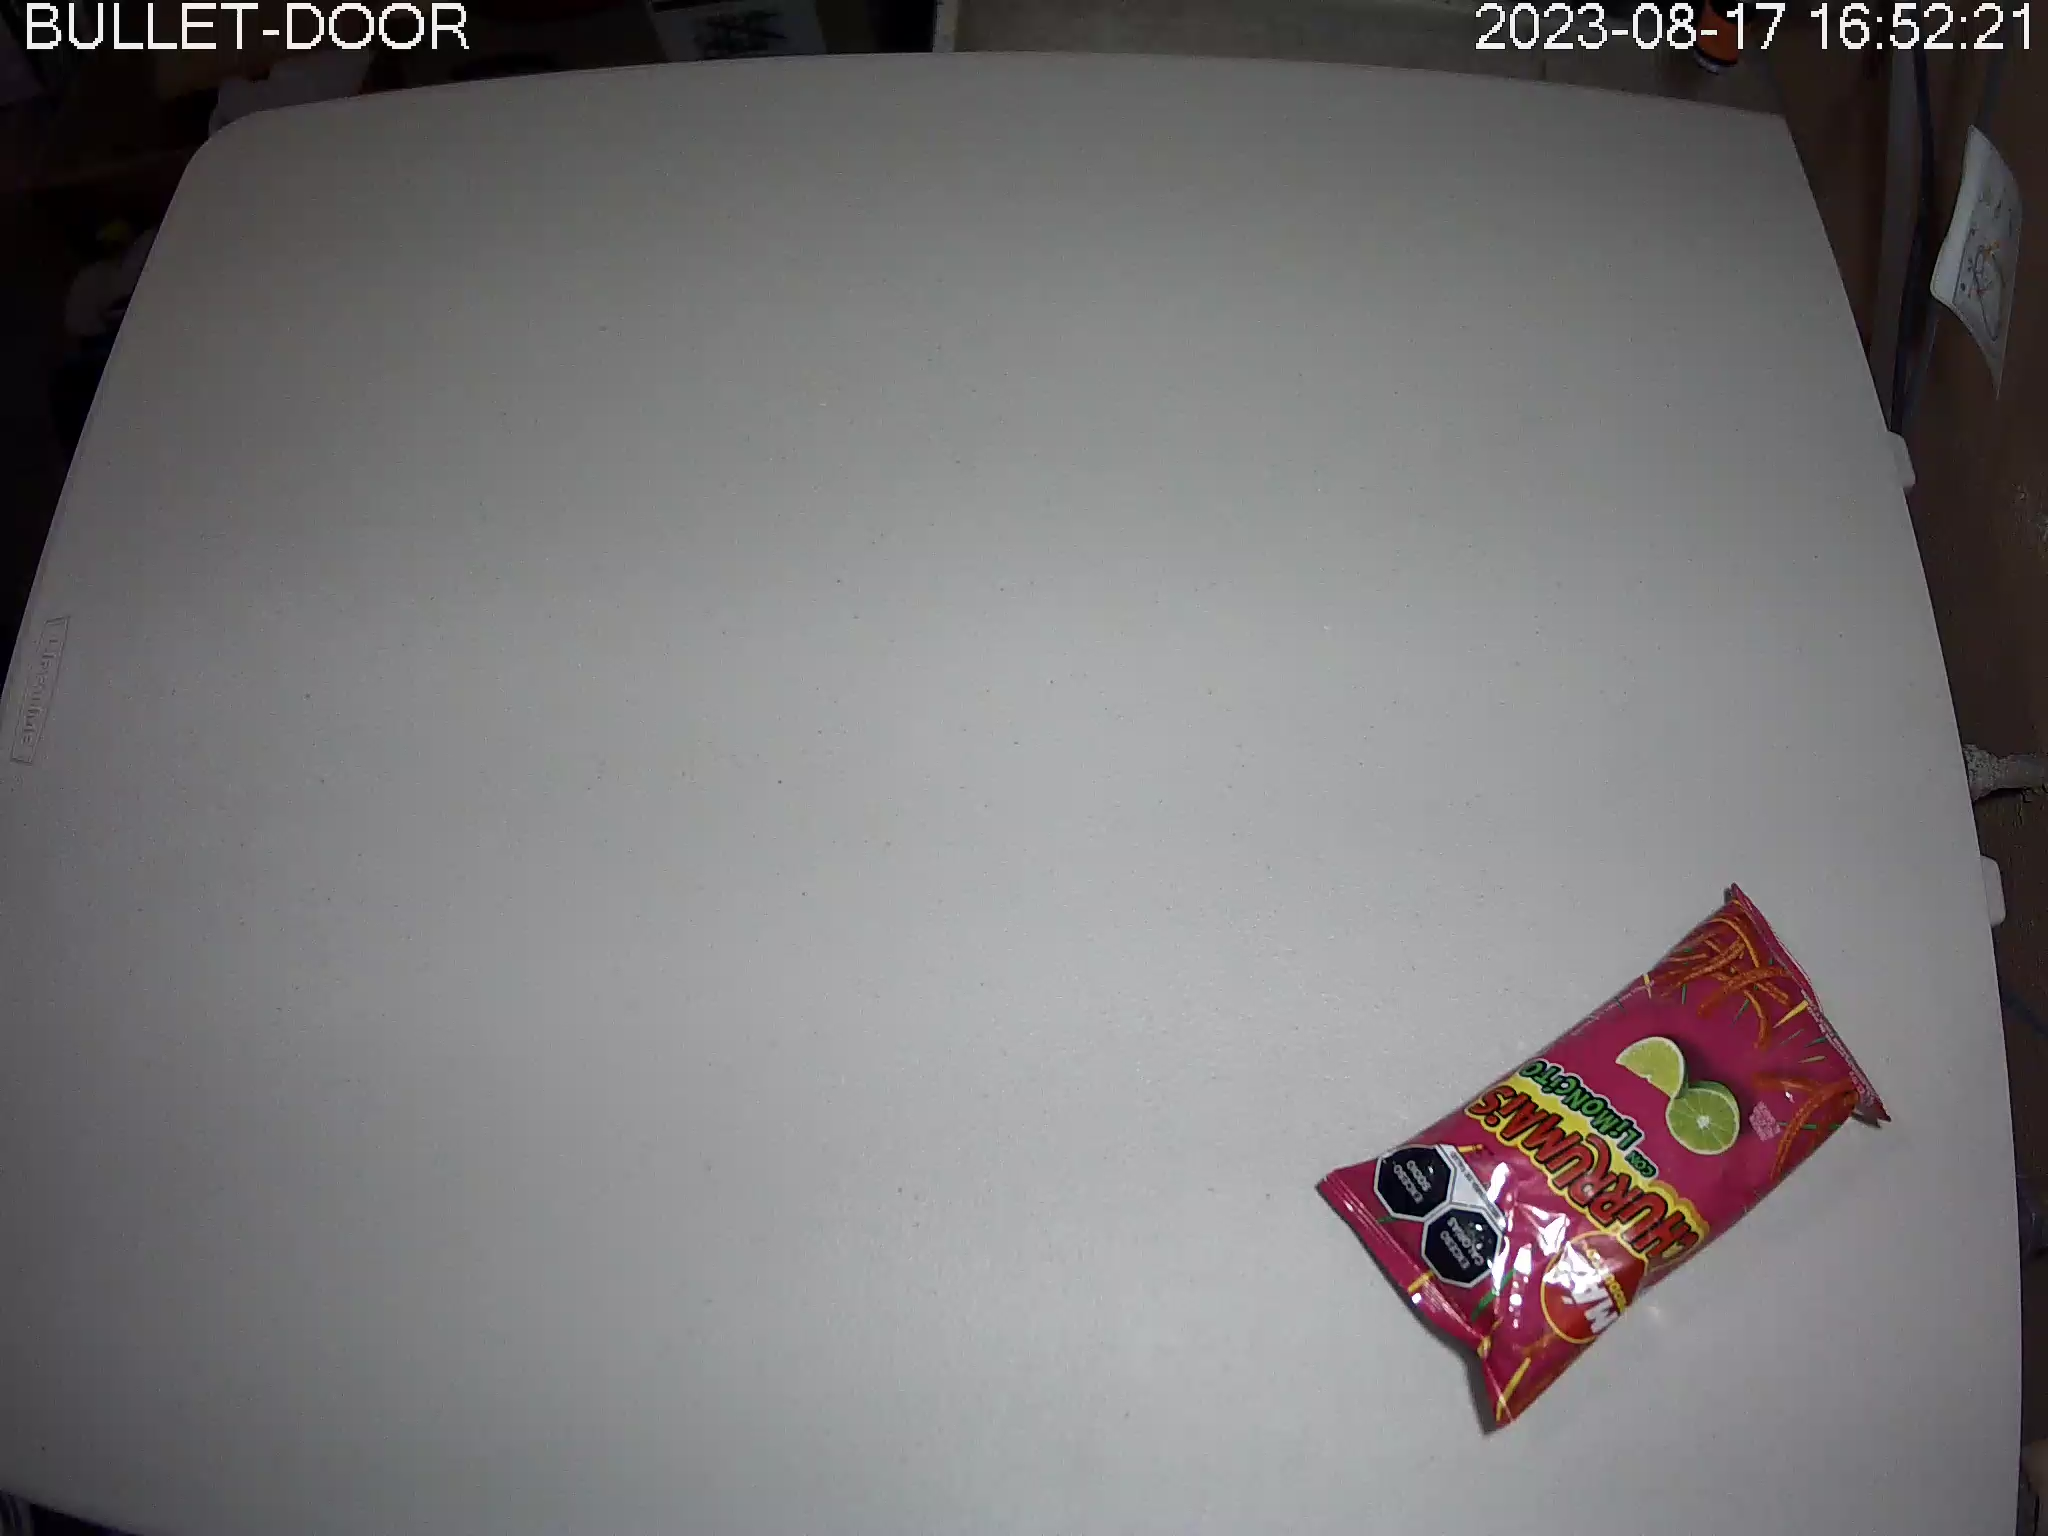Churrumais_70_F: (1314, 884, 1892, 1431)
